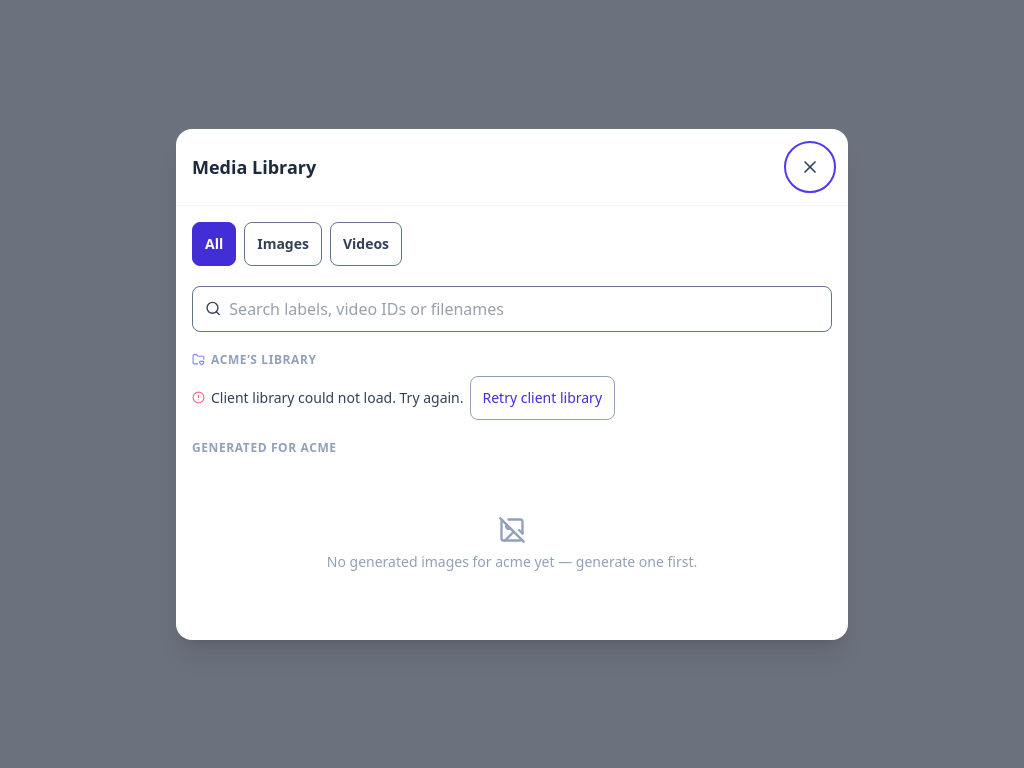
Test: MediaPicker › keeps a failed client read distinct from an empty library and allows one deliberate retry
expect the text "Client library could not load. Try again." is shown: met, box [211,388,464,406]
Click the button "Retry client library": (542, 398) [470,376,615,420]
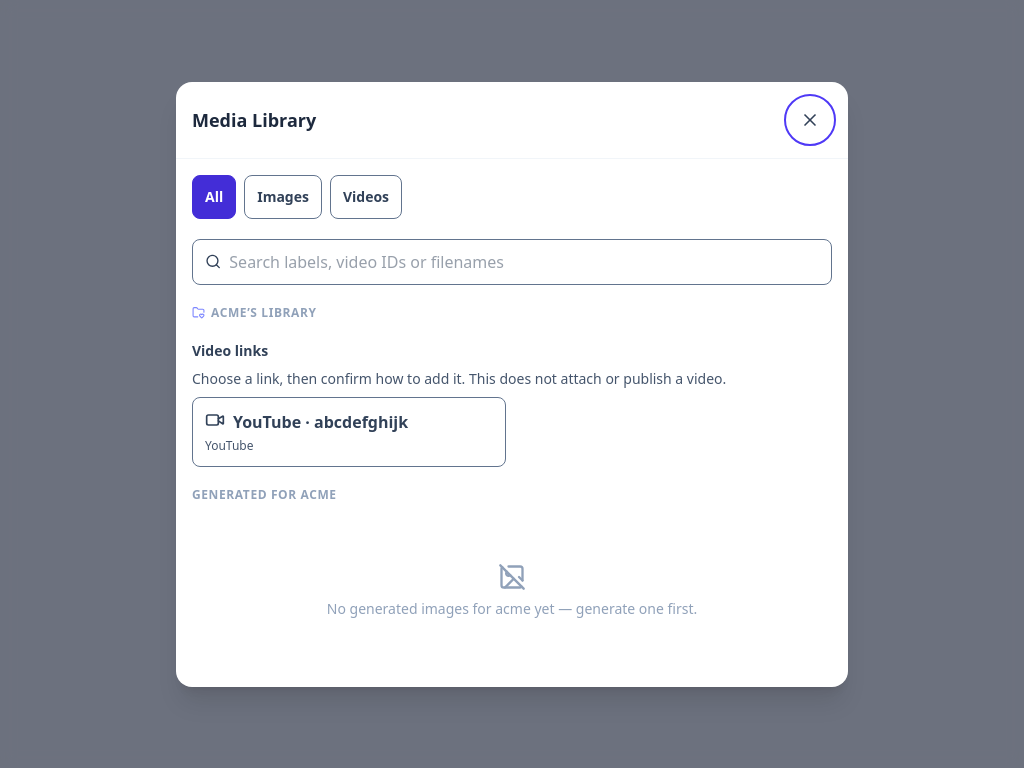
expect the button with aria-label "Choose video link" is shown: met, box [192,396,506,466]
